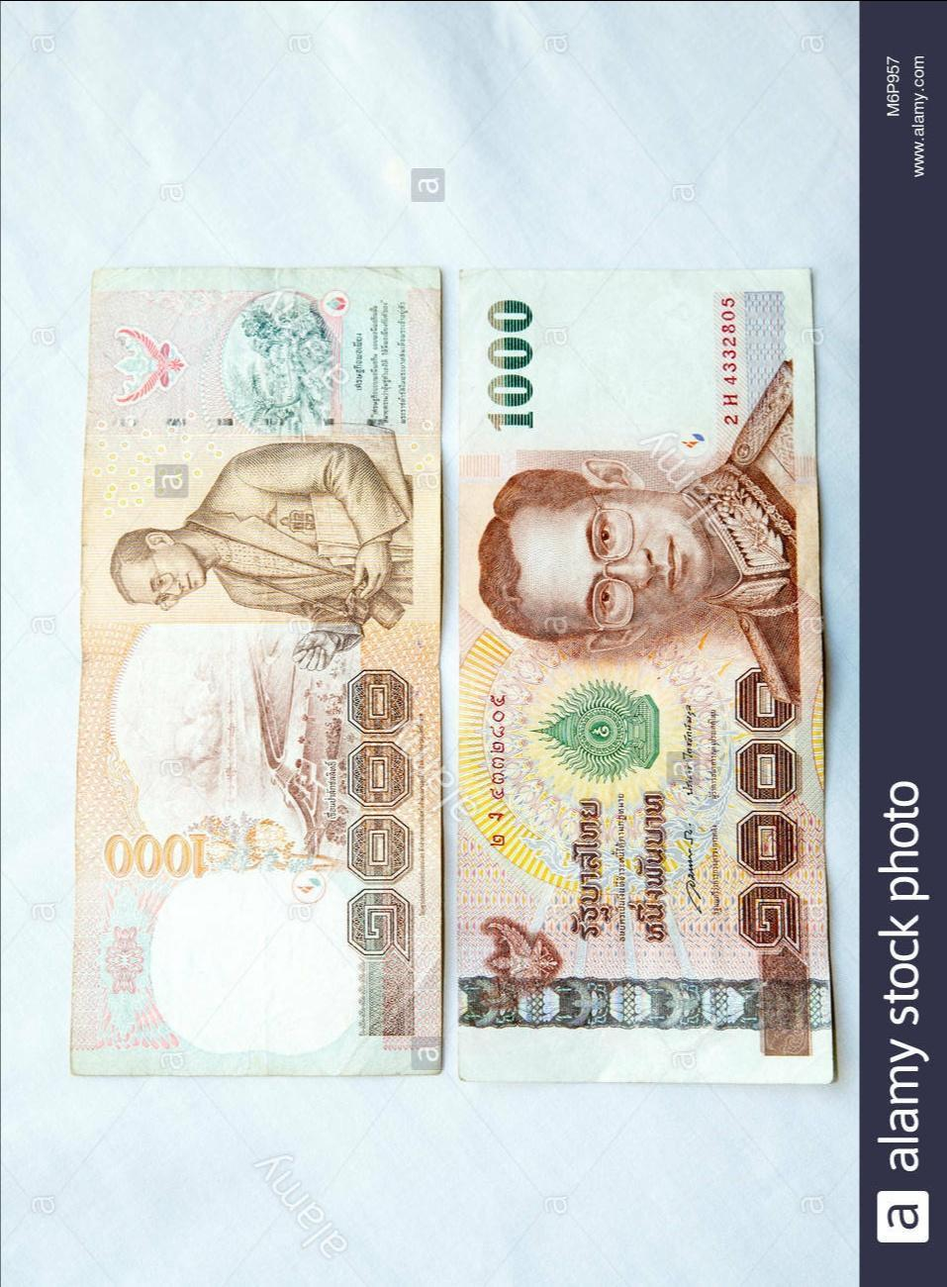1000BahtTai: (85, 263, 441, 1080)
